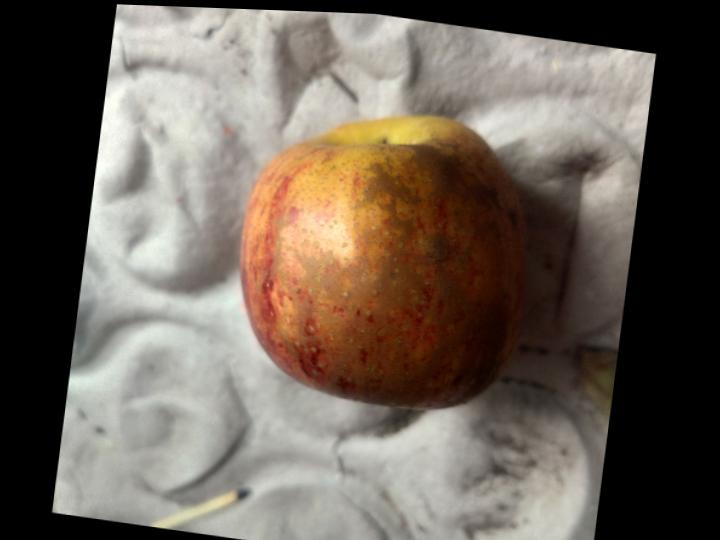apple: (241, 116, 525, 408)
bruise_discoloration: (250, 136, 515, 406)
